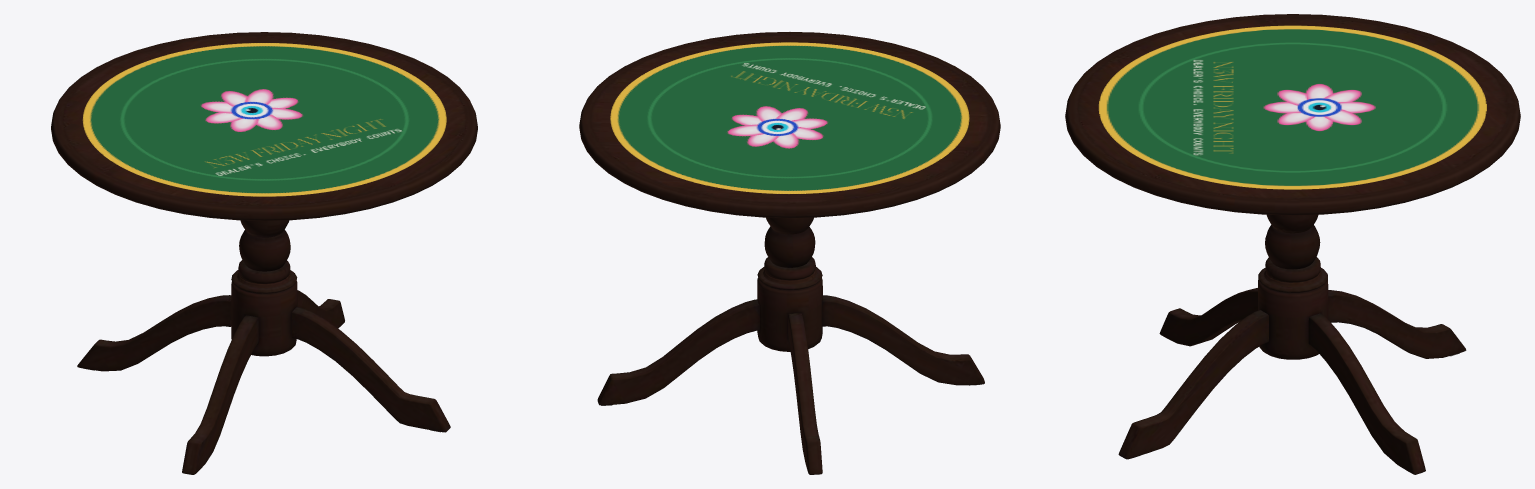
Rendered from nyb_oddcouple_poker.glb.
The picture shows the model from 3 angles, left to right: view 1: azimuth 30°, elevation 25°; view 2: azimuth 150°, elevation 25°; view 3: azimuth 270°, elevation 25°; orthographic projection. The views are drawn at different scales.
Visible parts, largest first — view 1: stk_b5_felt.png, round_wooden_table_01; view 2: stk_b5_felt.png, round_wooden_table_01; view 3: stk_b5_felt.png, round_wooden_table_01.
Boxes of the visible parts, left/top/right/bottom form: stk_b5_felt.png: left=82, top=43, right=446, bottom=196; round_wooden_table_01: left=51, top=32, right=477, bottom=474; stk_b5_felt.png: left=610, top=42, right=969, bottom=193; round_wooden_table_01: left=579, top=32, right=1000, bottom=474; stk_b5_felt.png: left=1098, top=25, right=1486, bottom=189; round_wooden_table_01: left=1065, top=14, right=1520, bottom=474.
Size of the model in its own units: 1.4 by 1.01 by 1.4.
Materials: 2 (2 with a texture image).
